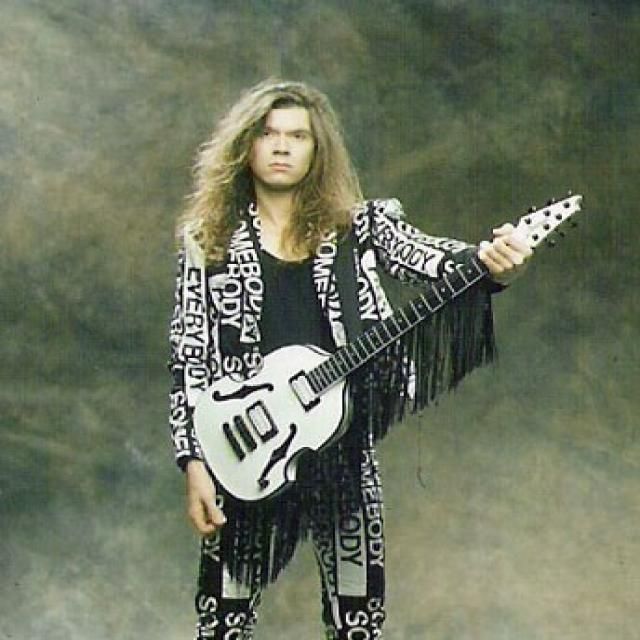guitar: (195, 190, 586, 504)
